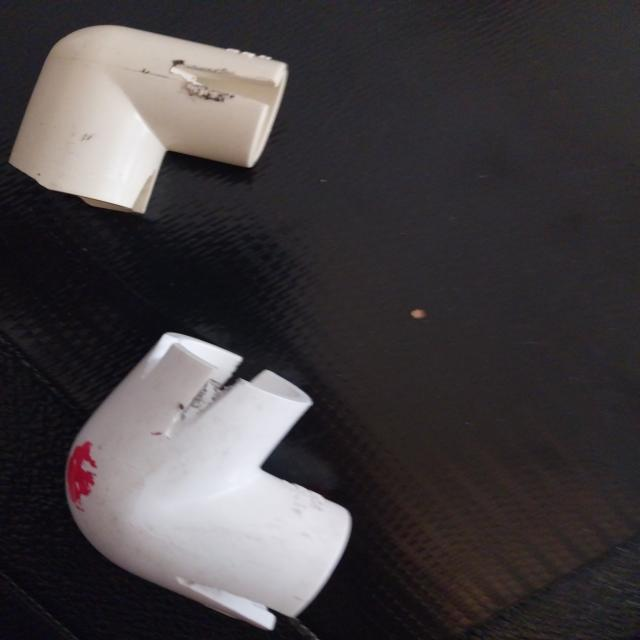Defective: (177, 337, 276, 427), (120, 151, 224, 224), (157, 63, 278, 117), (182, 564, 286, 622), (65, 444, 104, 513)
L Joint: (60, 336, 362, 636), (3, 22, 303, 216)
